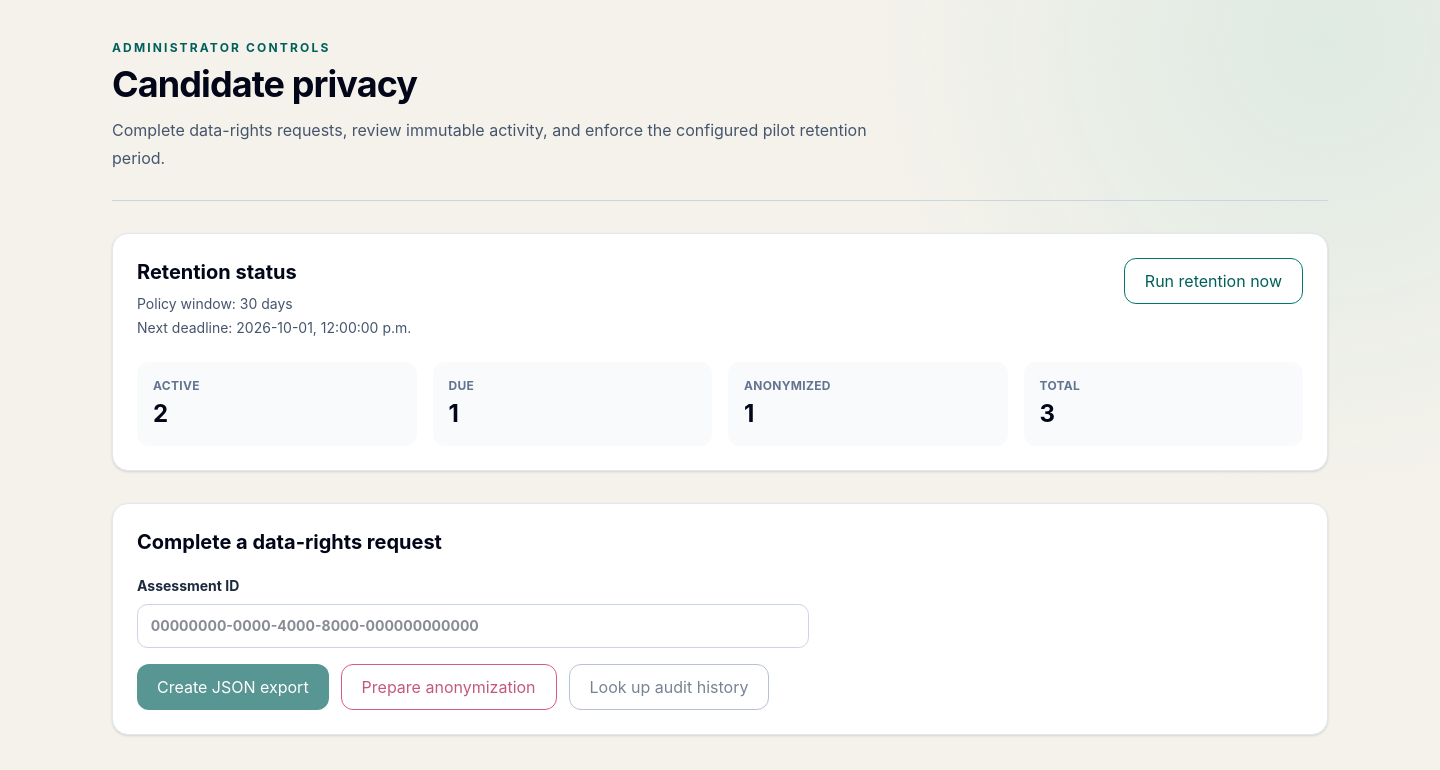
Test: PrivacyWorkspace › exports and explicitly confirms irreversible anonymization
Expected: the text "Policy window: 30 days" is shown, [137, 295, 293, 312]
Expected: the text "Next deadline: 2026-10-01, 12:00:00 p.m." is shown, [137, 318, 411, 338]
In the field labelled "Assessment ID": x=473, y=626 [137, 604, 809, 648], type "11111111-1111-4111-8111-111111111111"
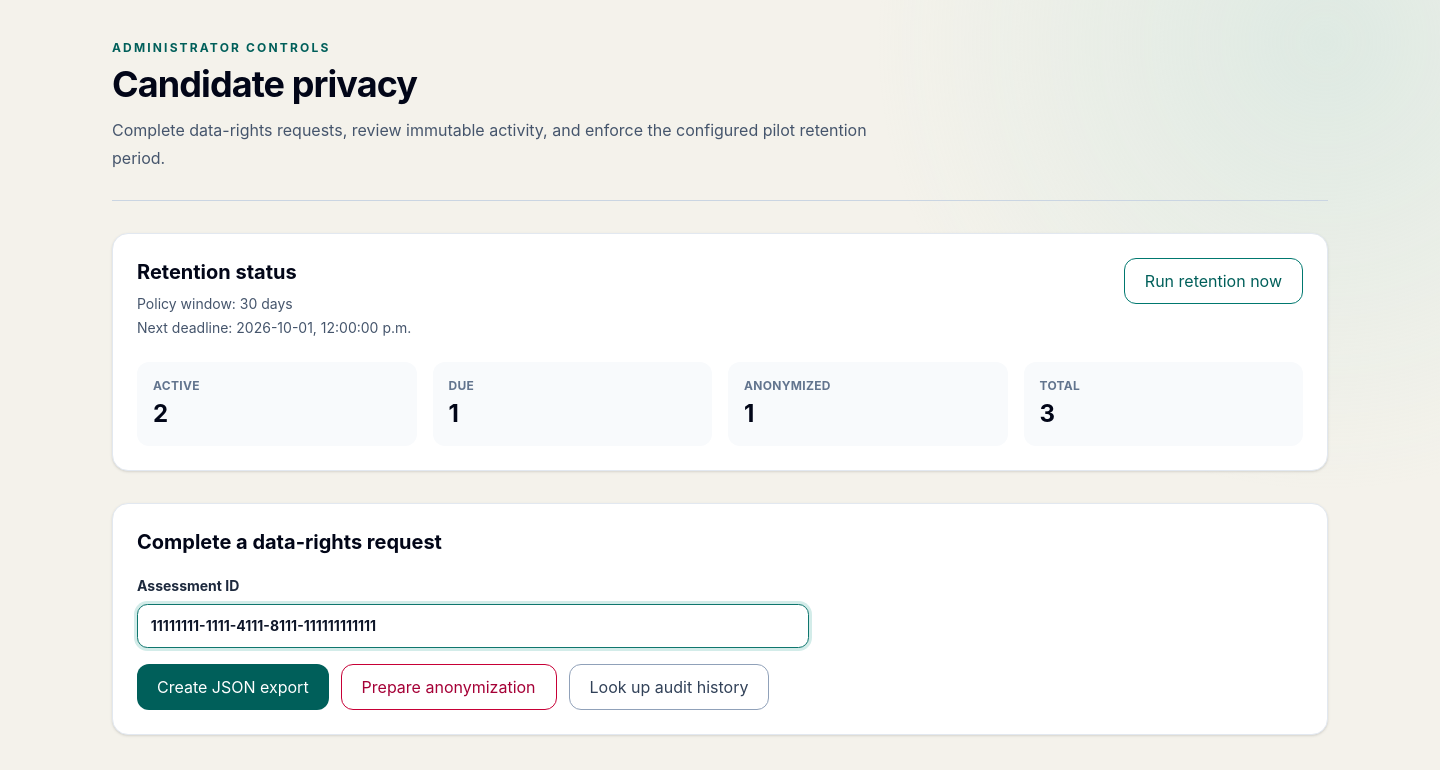
Click the button "Create JSON export": x=233, y=687 [137, 664, 329, 710]
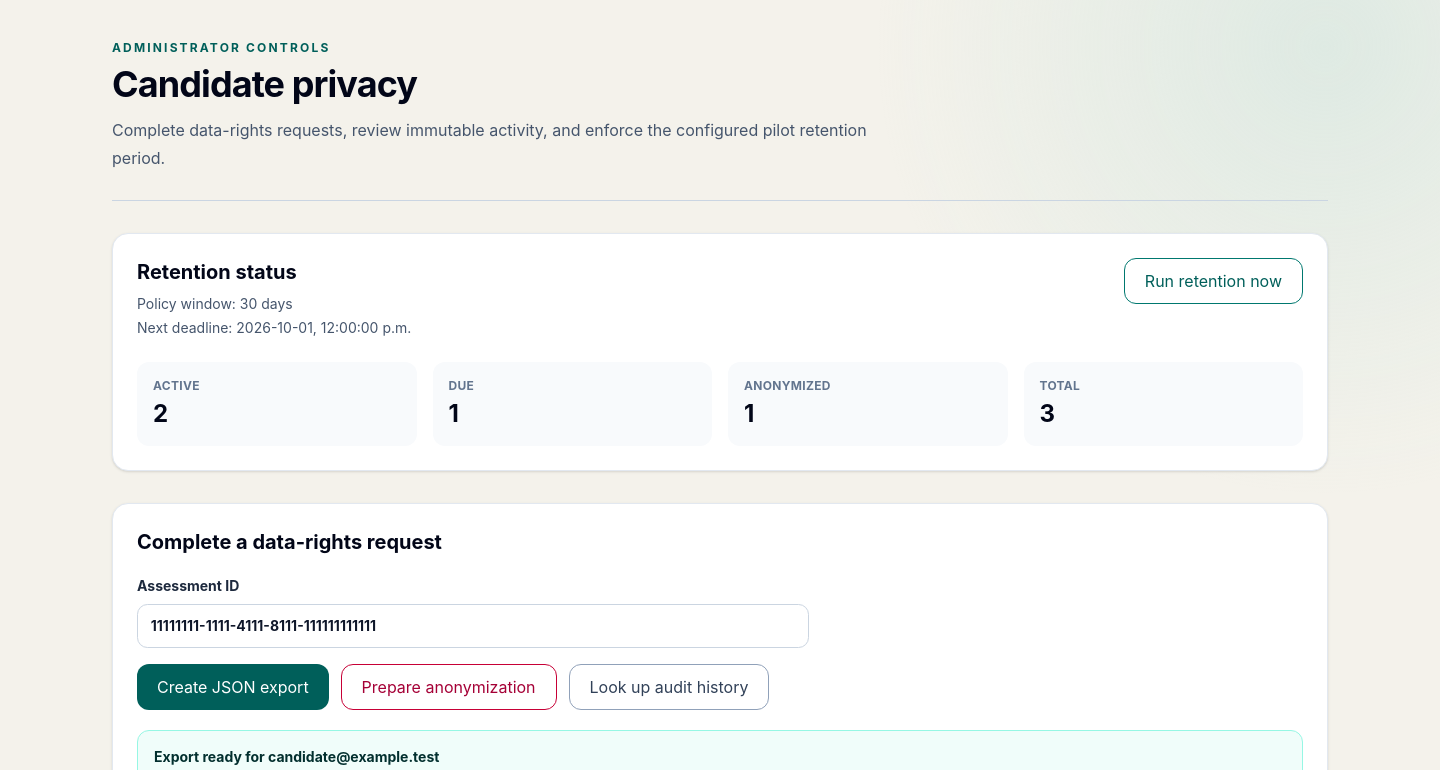
Click the button "Prepare anonymization": x=449, y=687 [341, 664, 556, 710]
(page scrolled)
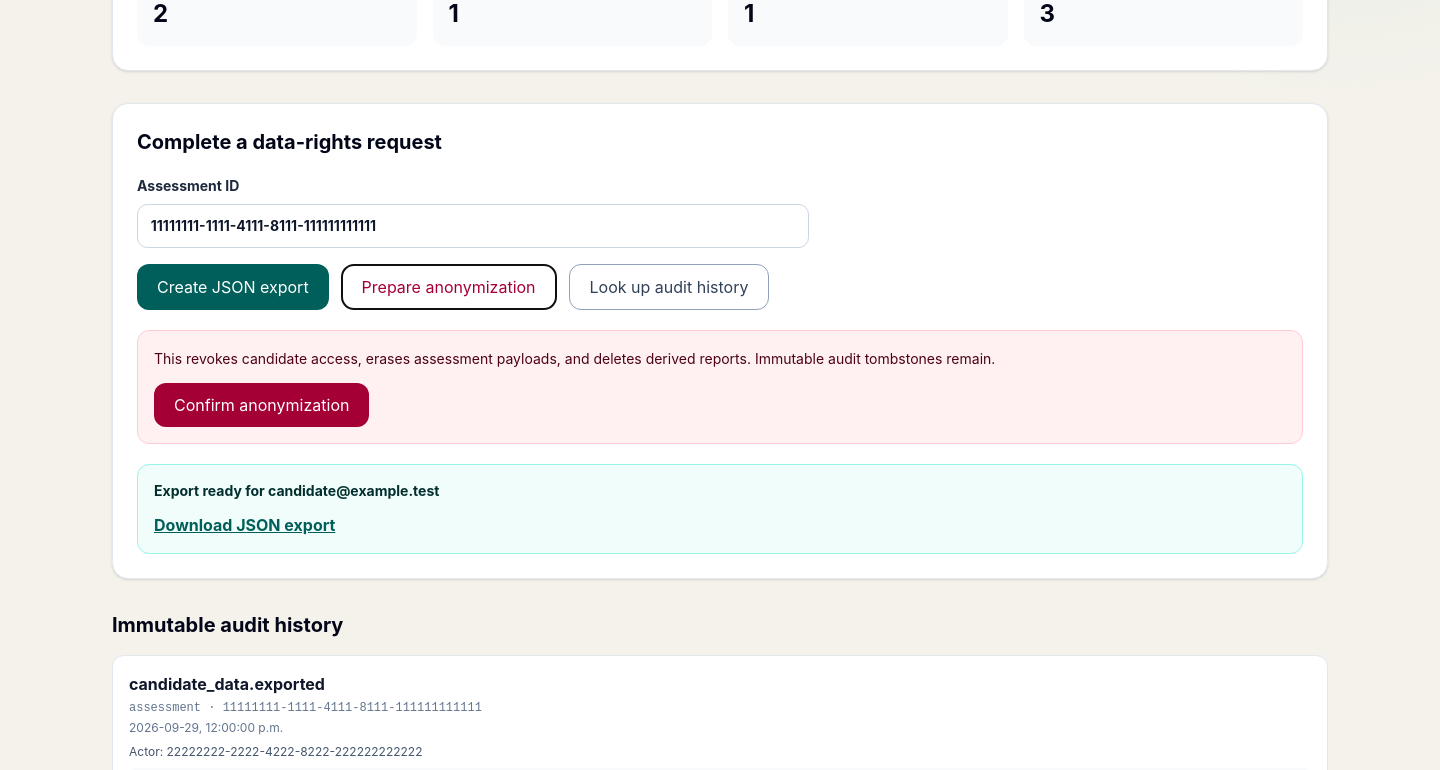
Click the button "Confirm anonymization": x=262, y=405 [154, 383, 369, 427]
(page scrolled)
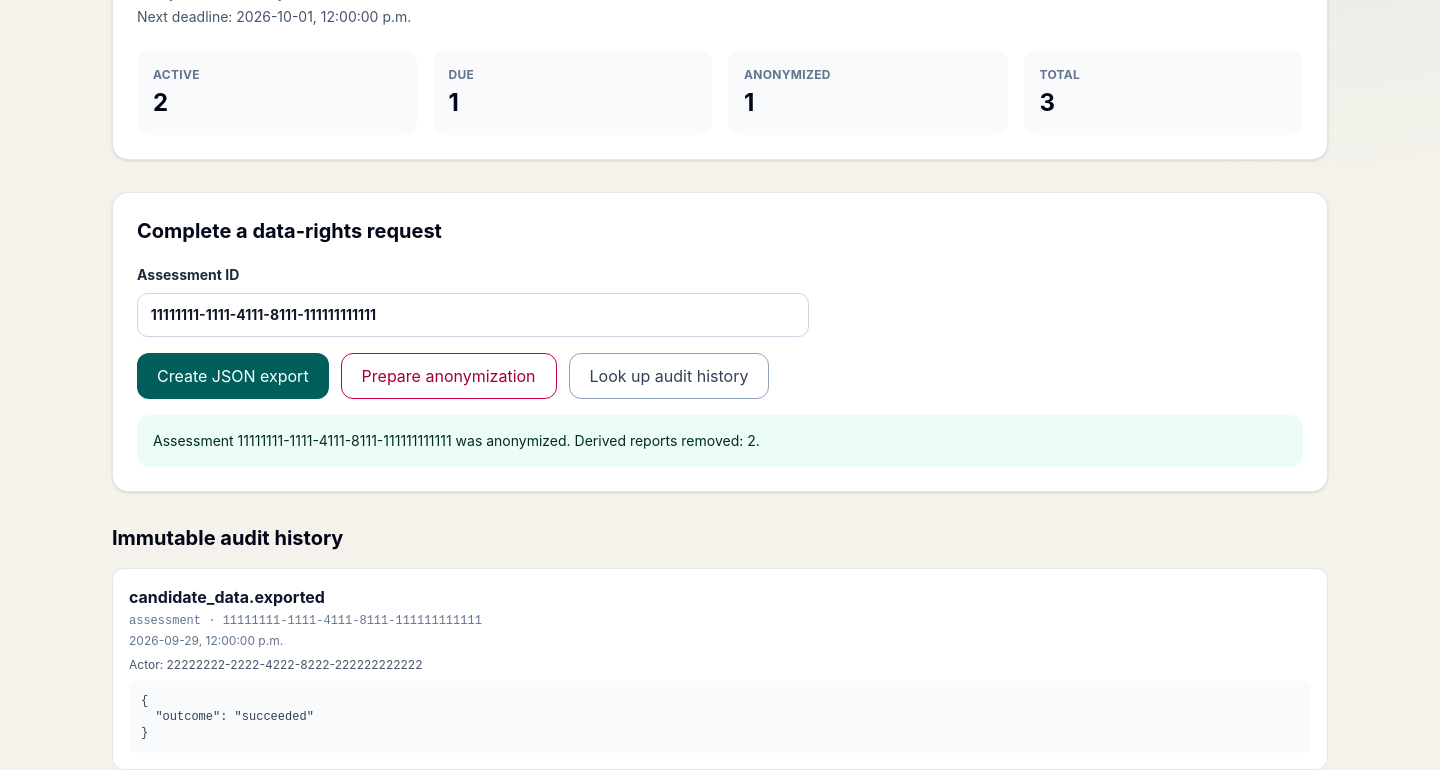
Now the text "Derived reports removed: 2" is shown, box [137, 415, 1303, 467]
Now the link "Download JSON export" is gone
